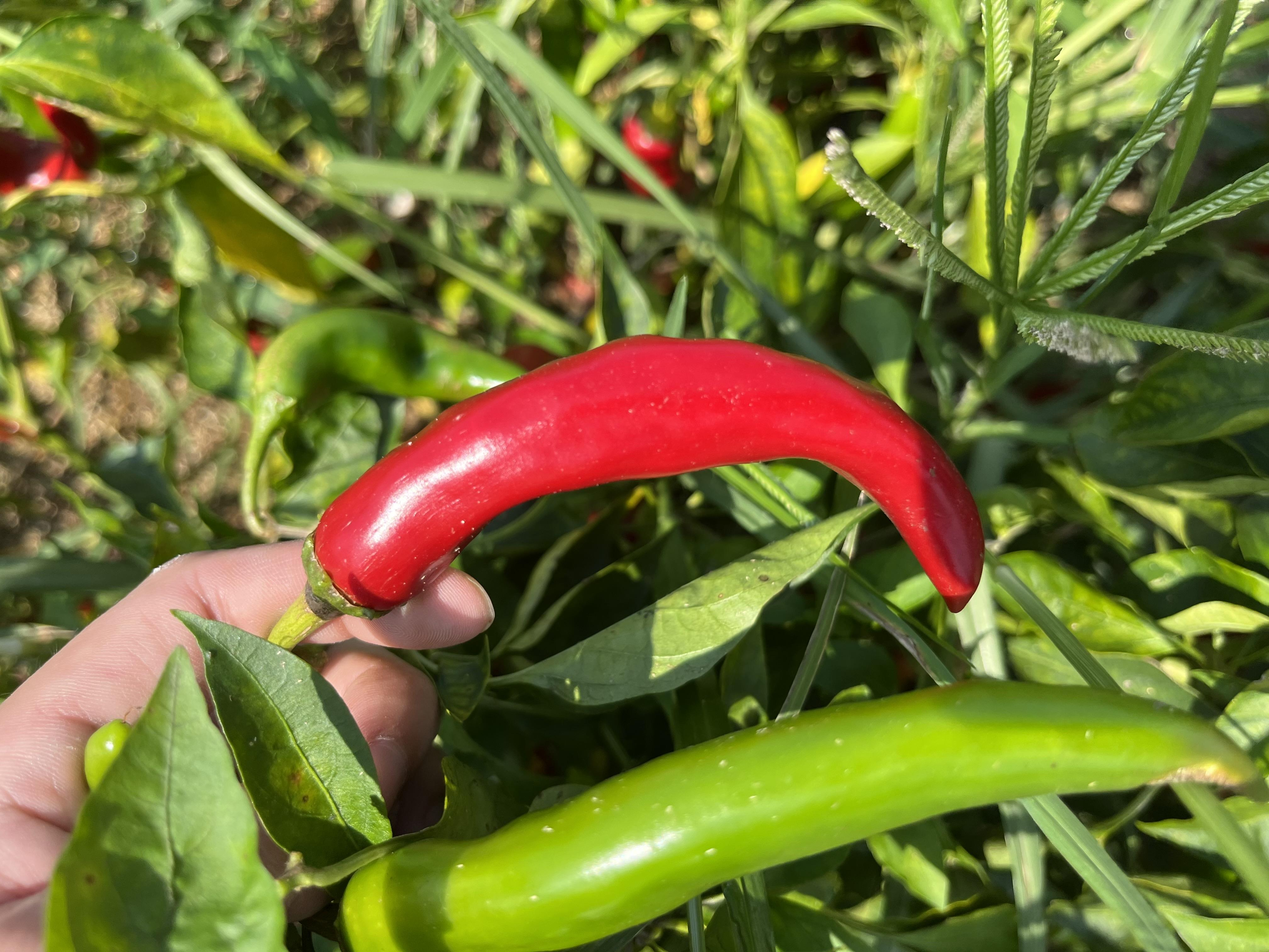Buah Cabai Sehat: (0, 235, 373, 952), (394, 214, 835, 744)
